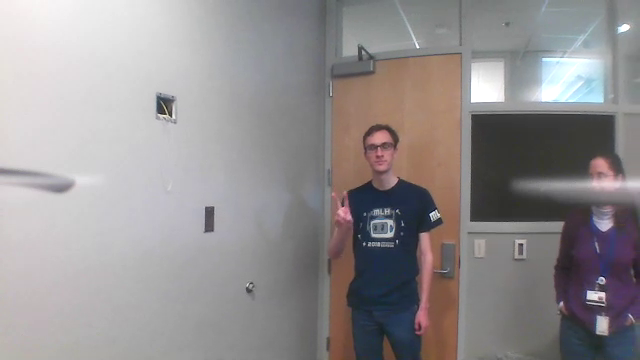peace: (325, 182, 356, 234)
